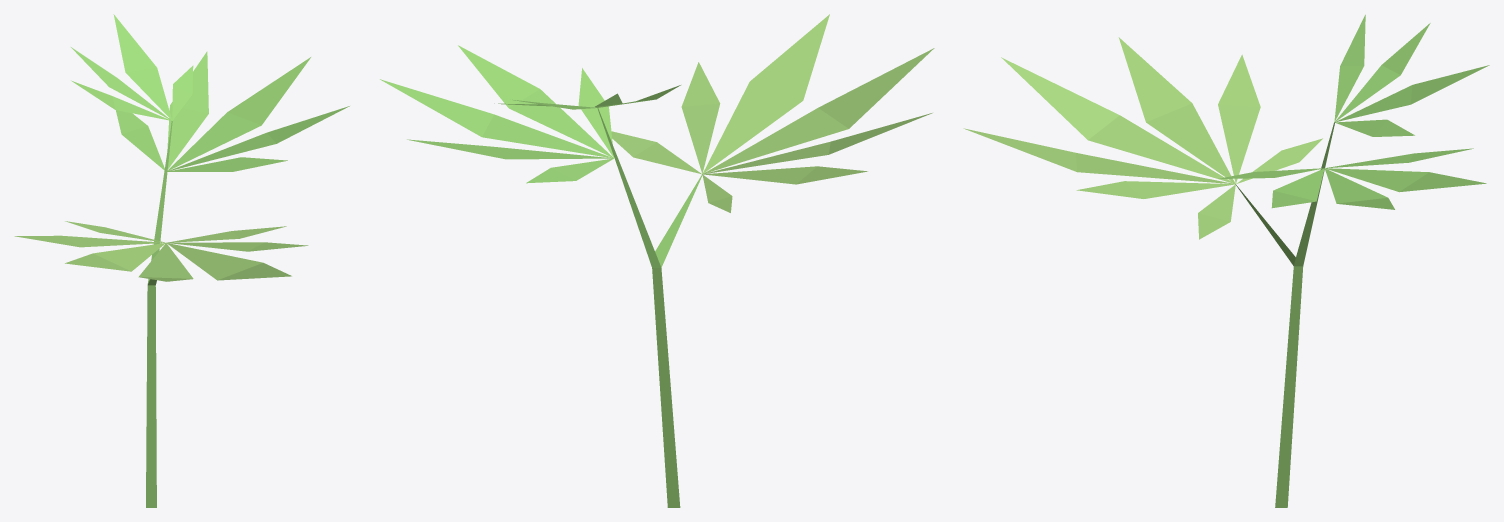
The model's file is Plant_i_TwoS_01.fbx.
3 renders of one model, left to right at view 1: azimuth 30°, elevation 25°; view 2: azimuth 150°, elevation 25°; view 3: azimuth 270°, elevation 25°, orthographic. The views are drawn at different scales.
Visible parts, largest first — view 1: Plant_i_TwoS_01; view 2: Plant_i_TwoS_01; view 3: Plant_i_TwoS_01.
Boxes of the visible parts, <box> form: Plant_i_TwoS_01: <box>14,14,349,507</box>; Plant_i_TwoS_01: <box>380,14,934,507</box>; Plant_i_TwoS_01: <box>963,14,1489,507</box>.
Size of the model in its own units: 0.4801 by 0.5182 by 0.5208.
